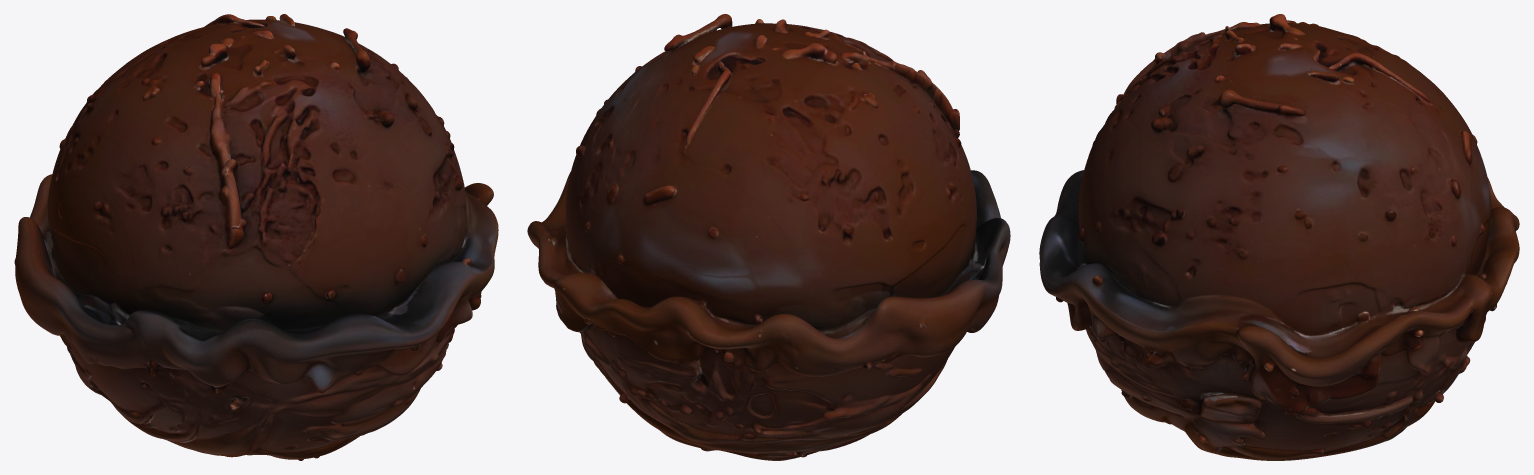
Rendered from scoop_chocolate.glb.
3 renders of one model, left to right at view 1: azimuth 30°, elevation 25°; view 2: azimuth 150°, elevation 25°; view 3: azimuth 270°, elevation 25°, orthographic.
Parts seen in each view (by area): view 1: tripo_node_e886335c-13d9-46b4-96e6-13b85ba33407; view 2: tripo_node_e886335c-13d9-46b4-96e6-13b85ba33407; view 3: tripo_node_e886335c-13d9-46b4-96e6-13b85ba33407.
Part boxes in pixels (x1=…): tripo_node_e886335c-13d9-46b4-96e6-13b85ba33407: x1=14, y1=14, x2=498, y2=460; tripo_node_e886335c-13d9-46b4-96e6-13b85ba33407: x1=527, y1=14, x2=1010, y2=460; tripo_node_e886335c-13d9-46b4-96e6-13b85ba33407: x1=1039, y1=14, x2=1519, y2=460.
Size of the model in its own units: 1 by 0.8958 by 0.9698.
1 material, 1 textured.
